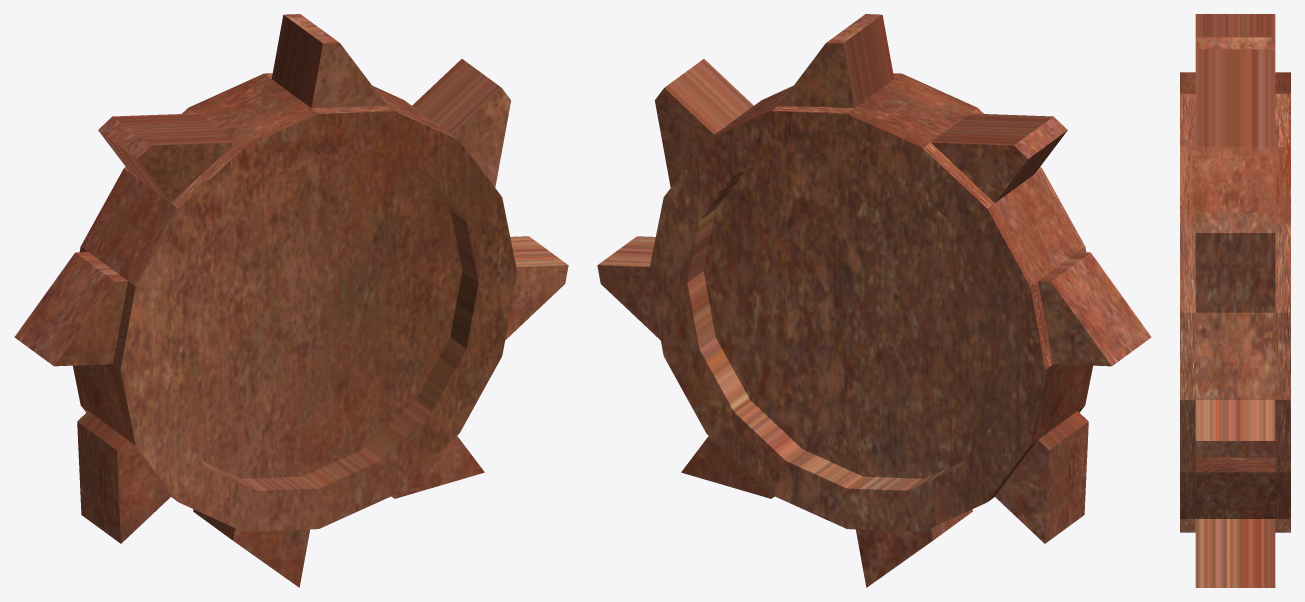
Rendered from SpinGear.glb.
3 renders of one model, left to right at view 1: azimuth 30°, elevation 25°; view 2: azimuth 150°, elevation 25°; view 3: azimuth 270°, elevation 25°, orthographic.
Parts seen in each view (by area): view 1: MainGear; view 2: MainGear; view 3: MainGear.
Part boxes in pixels (x1,y1,x2,y2): MainGear: [14, 14, 568, 587]; MainGear: [597, 14, 1151, 587]; MainGear: [1180, 14, 1290, 587].
Bounding box in the file's own units: 24.32 × 24.32 × 4.5.
Materials: 1 (1 with a texture image).
